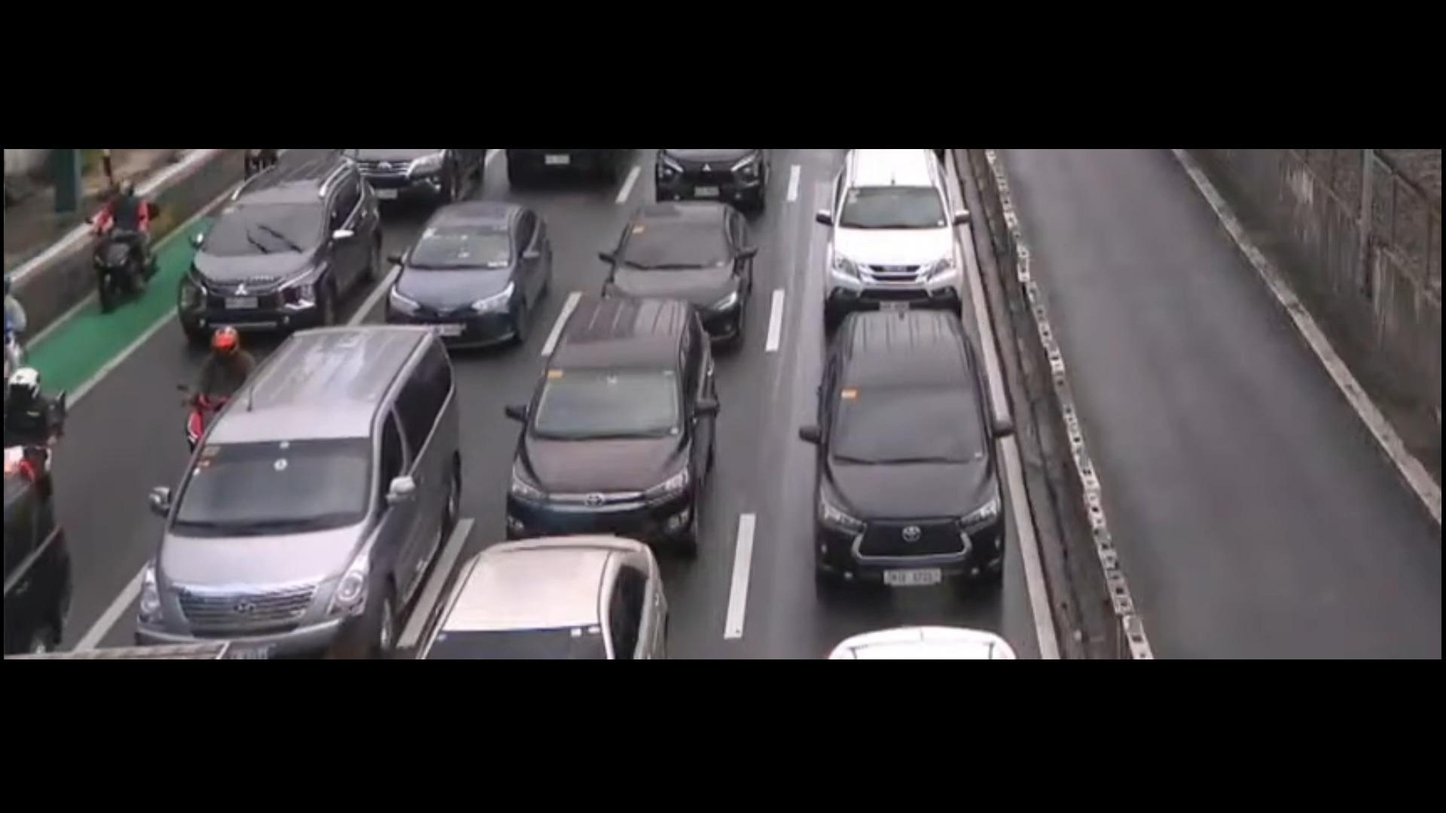Motorcycle: (81, 170, 168, 332), (188, 300, 255, 438), (0, 367, 68, 469)
SUV: (780, 275, 1034, 605), (482, 277, 744, 548), (170, 142, 371, 334), (801, 134, 976, 326)
Sedan: (398, 510, 678, 654), (378, 185, 567, 353), (580, 185, 767, 326)
Van: (134, 318, 475, 665)
